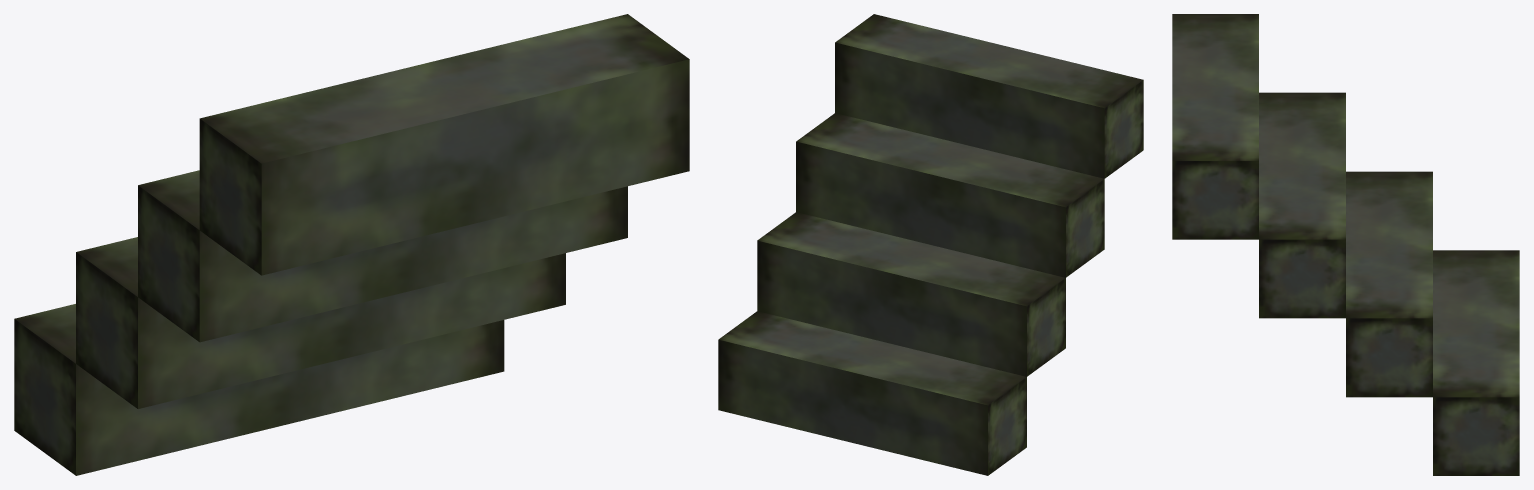
File: stair-01.fbx
3 renders of one model, left to right at view 1: azimuth 30°, elevation 25°; view 2: azimuth 150°, elevation 25°; view 3: azimuth 270°, elevation 25°, orthographic. The views are drawn at different scales.
Visible parts, largest first — view 1: stair_1; view 2: stair_1; view 3: stair_1.
Part boxes in pixels (left/top/right/bottom): stair_1: left=14, top=14, right=689, bottom=475; stair_1: left=718, top=14, right=1143, bottom=475; stair_1: left=1172, top=14, right=1519, bottom=475.
Size of the model in its own units: 200 by 200 by 200.
